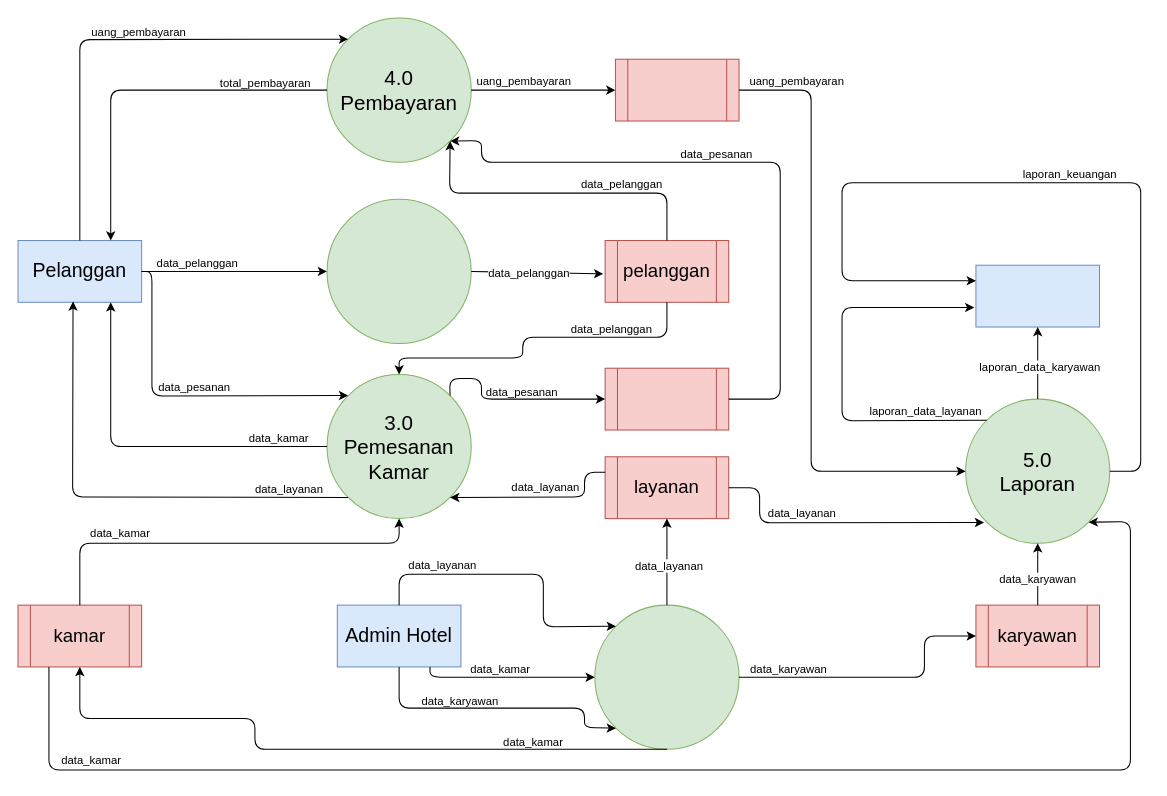
Image size: 1167x796. Some labels were removed from this diagram. Each missing label, with the box of its shape:
1.0 Pencatatan Data Hotel: (594, 604, 739, 749)
2.0 Login Pelanggan: (326, 198, 471, 344)
Manager: (975, 264, 1100, 327)
pesanan: (604, 367, 729, 430)
transaksi: (614, 58, 739, 121)
